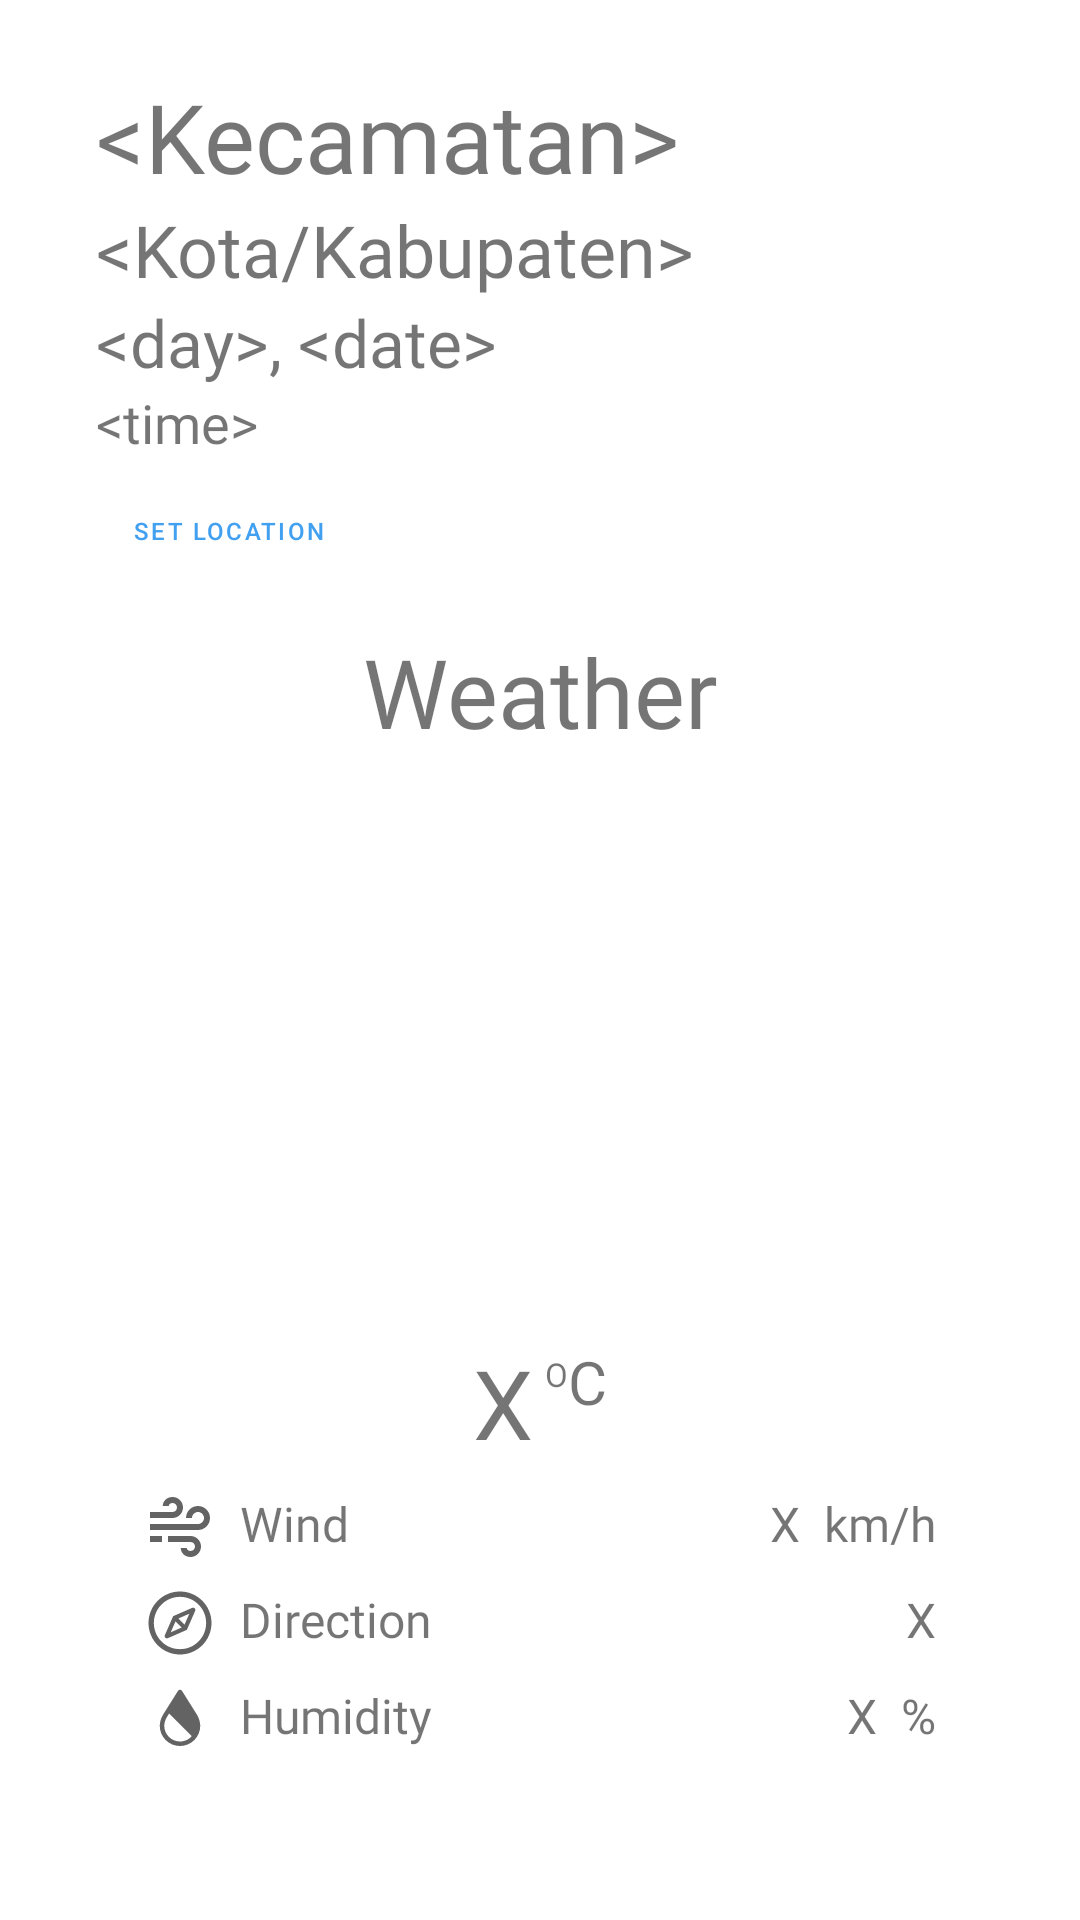

Where to tap for icons on this 1080 × 1920 app screen, as (x=x, y=y):
compass: (x=180, y=1623)
